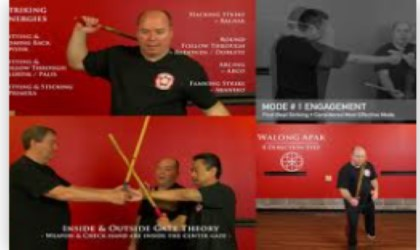baston_e: (108, 138, 159, 212), (121, 121, 150, 183), (100, 20, 135, 45), (366, 80, 391, 94), (352, 170, 366, 195)
baston_v: (71, 12, 84, 26), (141, 112, 154, 123), (104, 129, 116, 140), (361, 77, 370, 87)
